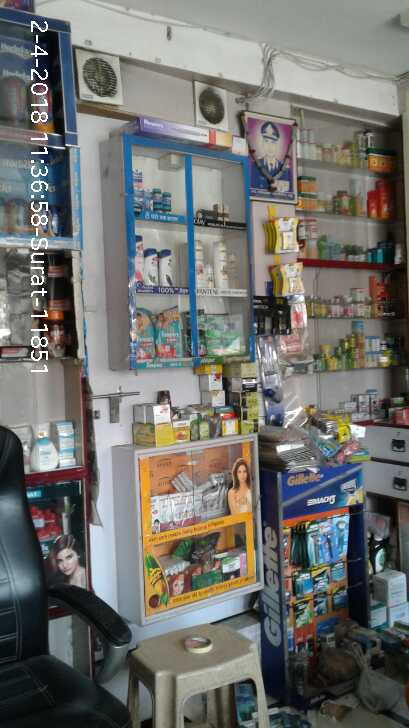oralcare: (257, 338, 284, 391), (312, 429, 334, 454)
vicks: (155, 188, 161, 203), (164, 192, 171, 204), (163, 207, 172, 216), (155, 205, 162, 213)
